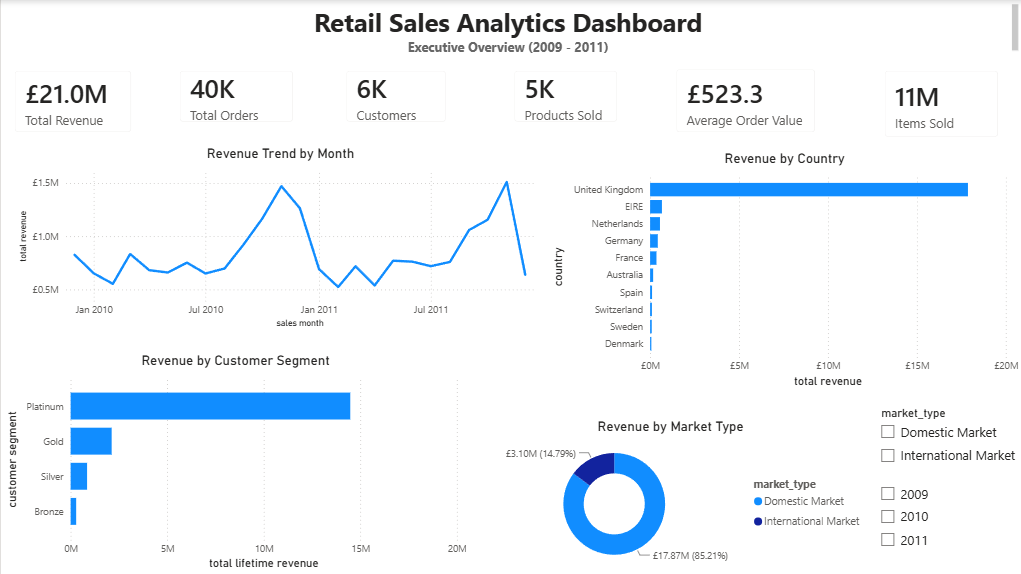

This screenshot's page, from the dashboard's own definition file:
{"tool":"powerbi","page":{"name":"Page 1","canvas":[1280,720],"ordinal":0},"visuals":[{"type":"clusteredBarChart","title":"Revenue by Country","fields":{"Y":["Sum(dashboard_regional_performance.total_revenue)"],"Category":["dashboard_regional_performance.country"]},"box":[684.6,188.5,596.2,301.9],"z":0},{"type":"donutChart","title":"Revenue by Market Type","fields":{"Category":["dashboard_regional_performance.market_type"],"Y":["Sum(dashboard_regional_performance.total_revenue)"]},"box":[588.5,525,501.9,194.2],"z":1000},{"type":"cardVisual","fields":{"Data":["Sum(dashboard_executive_kpis.total_revenue)"]},"box":[0,71.2,180.8,111.5],"z":2000},{"type":"cardVisual","fields":{"Data":["Sum(dashboard_executive_kpis.total_orders)"]},"box":[207.7,71.2,176.9,98.1],"z":3000},{"type":"cardVisual","fields":{"Data":["Sum(dashboard_executive_kpis.identified_customers)"]},"box":[415.4,71.2,159.6,98.1],"z":4000},{"type":"cardVisual","fields":{"Data":["Sum(dashboard_executive_kpis.products_sold)"]},"box":[626.9,71.2,163.5,98.1],"z":5000},{"type":"cardVisual","fields":{"Data":["Sum(dashboard_executive_kpis.average_order_value)"]},"box":[830,70,208.3,113.3],"z":6000},{"type":"cardVisual","fields":{"Data":["Sum(dashboard_executive_kpis.total_items_sold)"]},"box":[1090.4,71.2,176.9,117.3],"z":7000},{"type":"clusteredBarChart","title":"Revenue by Customer Segment","fields":{"Category":["dashboard_customer_segments.customer_segment"],"Y":["Sum(dashboard_customer_segments.lifetime_revenue)"]},"box":[0,442.3,588.5,276.9],"z":8000},{"type":"slicer","fields":{"Values":["dashboard_monthly_sales.sales_month.Variation.Date Hierarchy.Year"]},"box":[1090.4,605.8,176.9,113.5],"z":9000},{"type":"slicer","fields":{"Values":["dashboard_regional_performance.market_type"]},"box":[1090.4,503.8,190.4,101.9],"z":10000},{"type":"lineChart","title":"Revenue Trend by Month","fields":{"Category":["dashboard_monthly_sales.sales_month"],"Y":["Sum(dashboard_monthly_sales.total_revenue)"]},"box":[17.3,182.7,667.3,232.7],"z":11000},{"type":"textbox","box":[0,0,1280.8,71.2],"z":12000}]}

Visuals, with their boxes in screenshot pixels (x1, y1, x2, y2), scaled from the page's 1280x720 canvas onto the 1021x574 screenshot:
"Revenue by Country" clusteredBarChart: detection(546, 150, 1020, 391)
"Revenue by Market Type" donutChart: detection(469, 419, 870, 573)
cardVisual - Sum(dashboard_executive_kpis.total_revenue): detection(0, 57, 144, 146)
cardVisual - Sum(dashboard_executive_kpis.total_orders): detection(166, 57, 307, 135)
cardVisual - Sum(dashboard_executive_kpis.identified_customers): detection(331, 57, 459, 135)
cardVisual - Sum(dashboard_executive_kpis.products_sold): detection(500, 57, 630, 135)
cardVisual - Sum(dashboard_executive_kpis.average_order_value): detection(662, 56, 828, 146)
cardVisual - Sum(dashboard_executive_kpis.total_items_sold): detection(870, 57, 1011, 150)
"Revenue by Customer Segment" clusteredBarChart: detection(0, 353, 469, 573)
slicer - dashboard_monthly_sales.sales_month.Variation.Date Hierarchy.Year: detection(870, 483, 1011, 573)
slicer - dashboard_regional_performance.market_type: detection(870, 402, 1020, 483)
"Revenue Trend by Month" lineChart: detection(14, 146, 546, 331)
textbox: detection(0, 0, 1020, 57)
